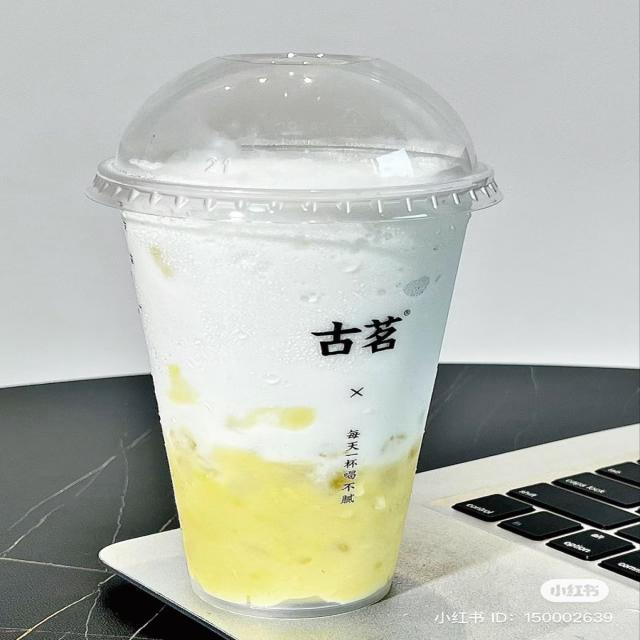plastic cup: (86, 54, 504, 620)
